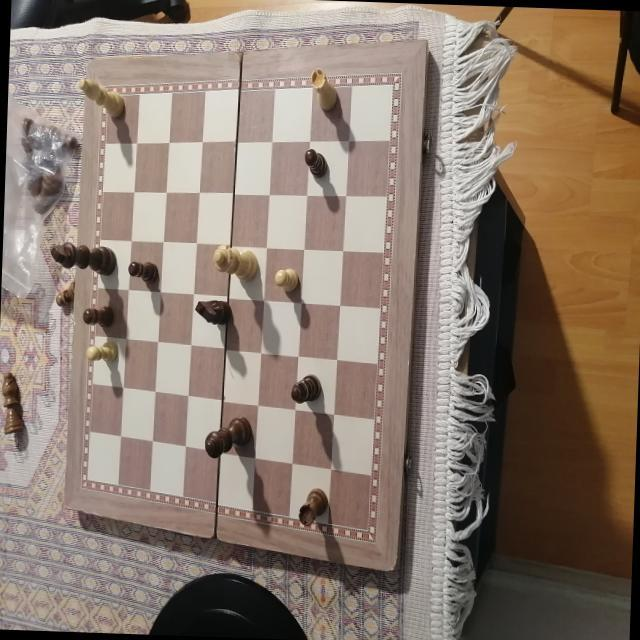corners: (84, 44, 107, 70), (54, 494, 80, 516), (409, 36, 438, 53), (382, 555, 403, 577)
